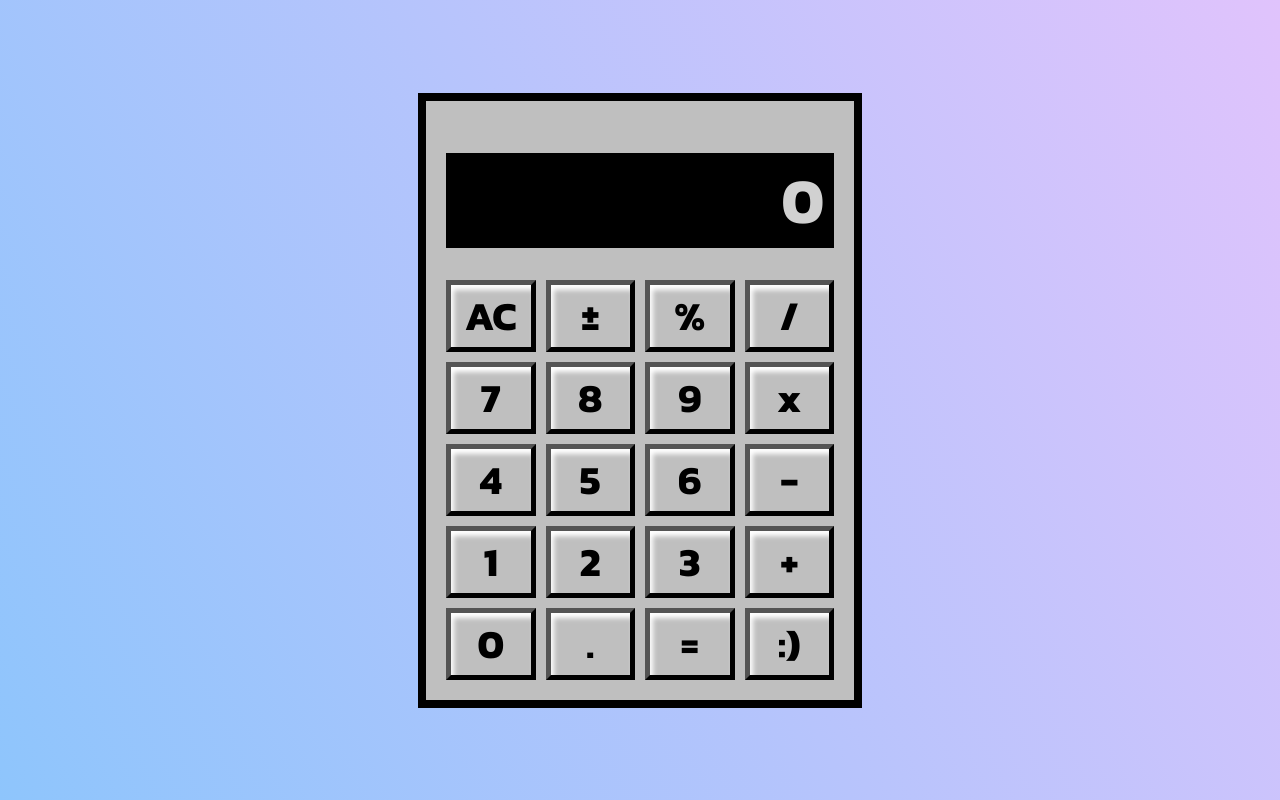
Test: Componente Calculadora › Realiza la suma correctamente
Click the button "3" at (690, 562), box [645,526,734,598]
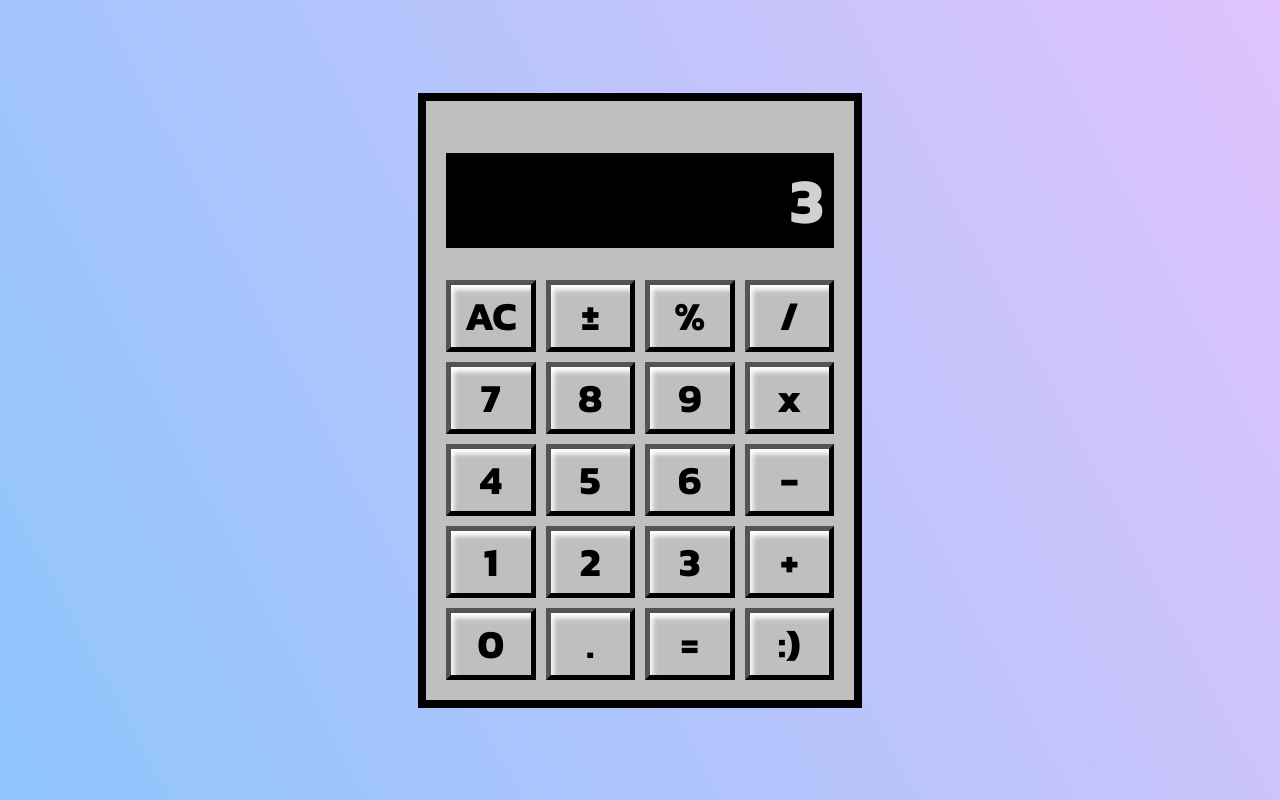
Click the button "+" at (789, 562), box [744,526,834,598]
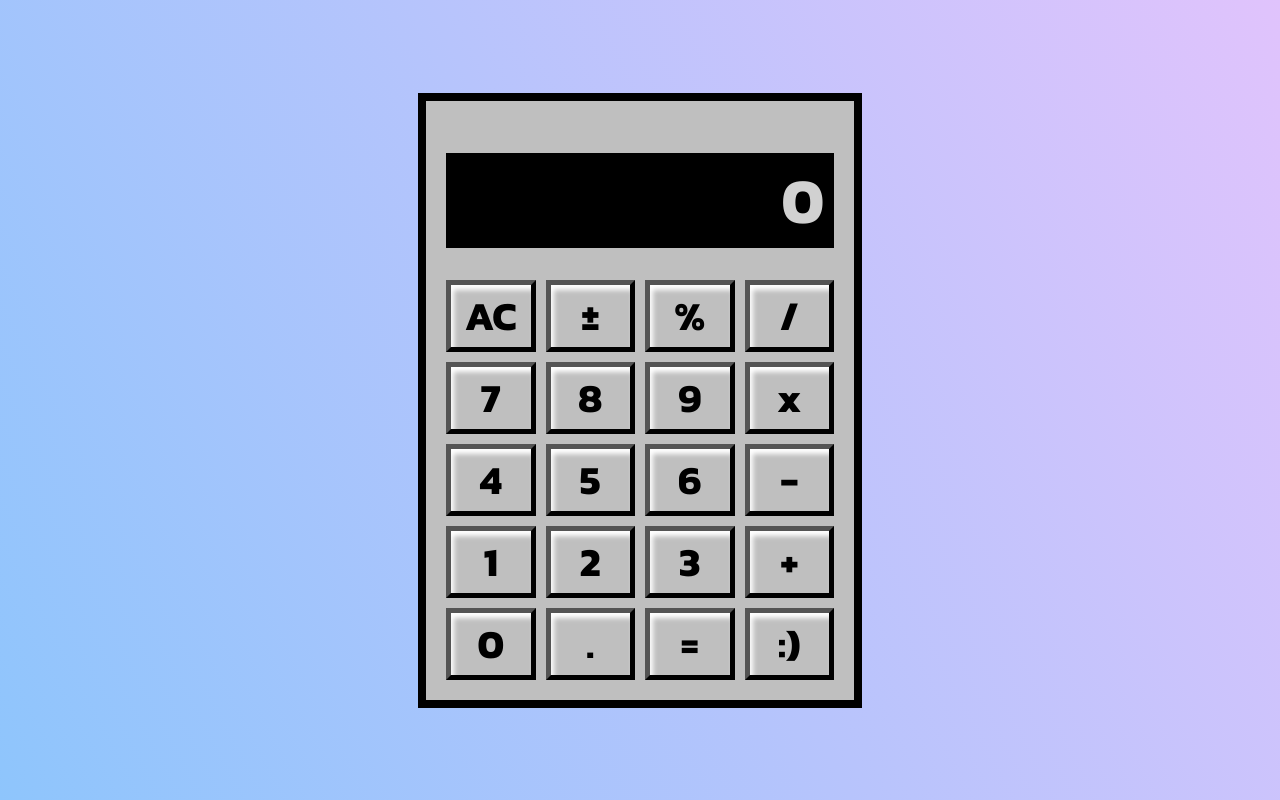
Click the button "4" at (491, 480), box [446,444,536,516]
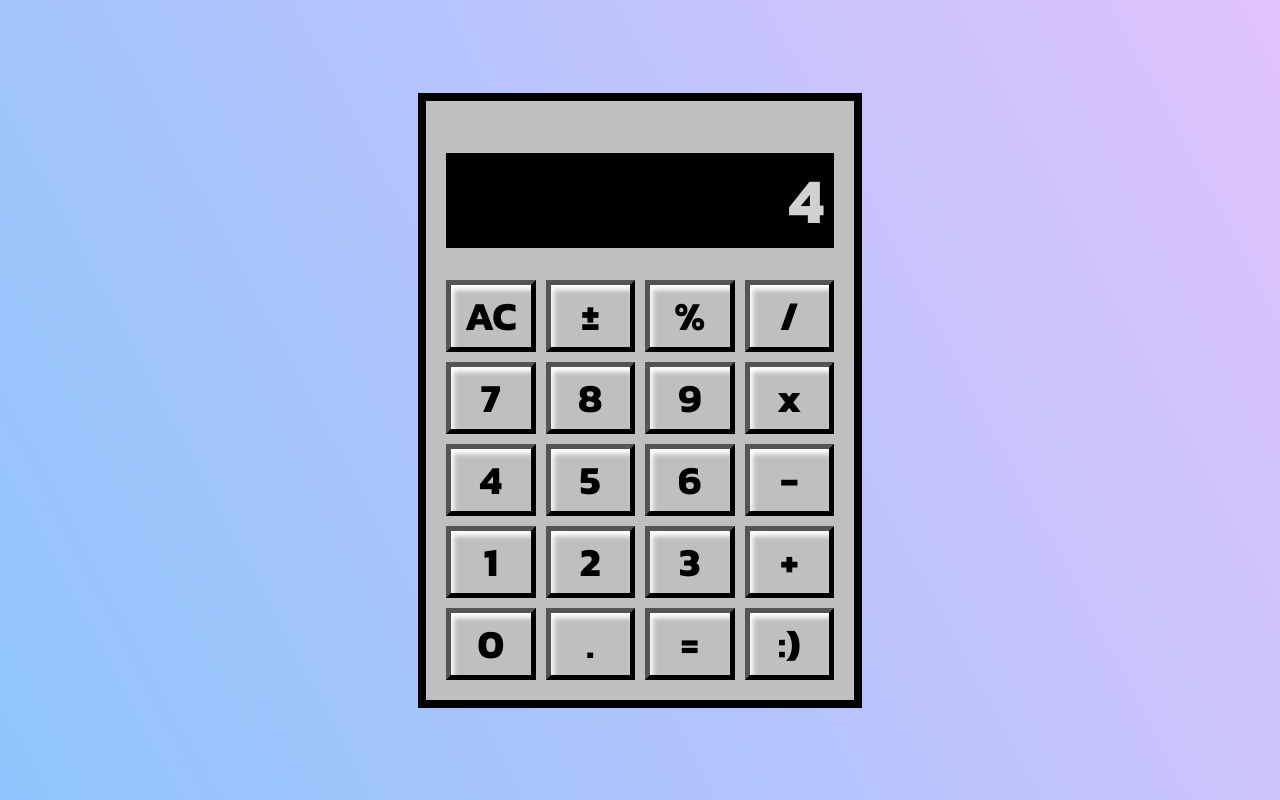
Click the button "=" at (690, 644), box [645,608,734,680]
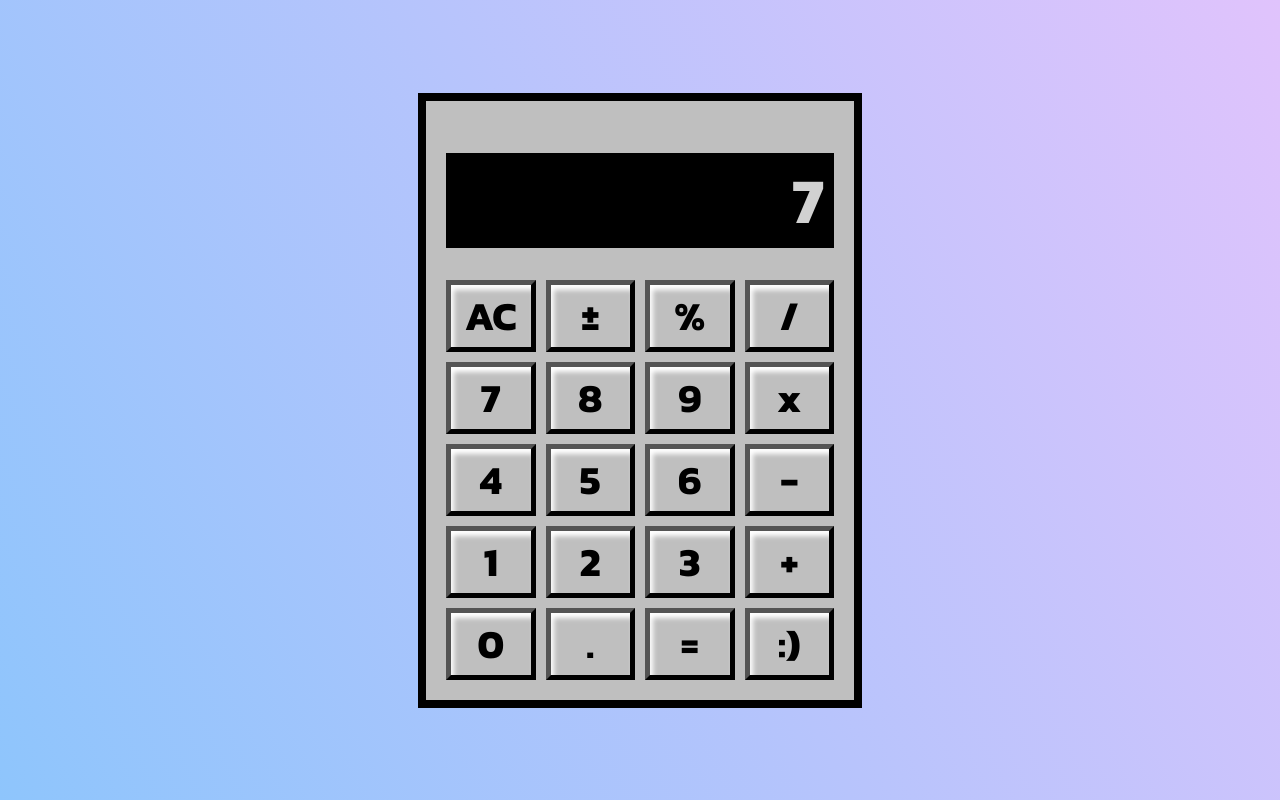
Expected: the text "0" reads "7", [792,152,824,248]
